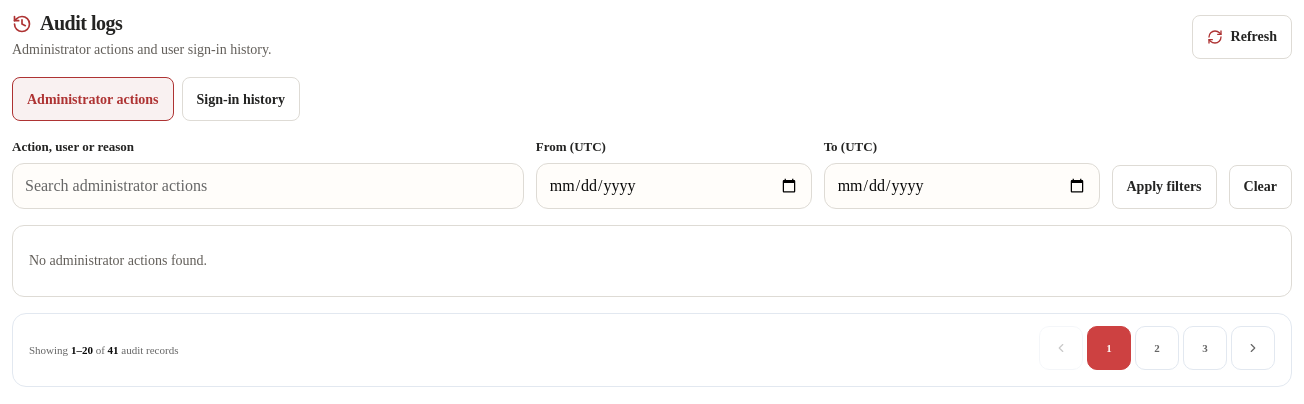
Test: admin sign-in history › ignores a stale security response after switching back to administrator actions
Expected: the text "No administrator actions found." is shown, [29,253,207,268]
Click the button "Sign-in history" at (241, 99), box [182,77,300,121]
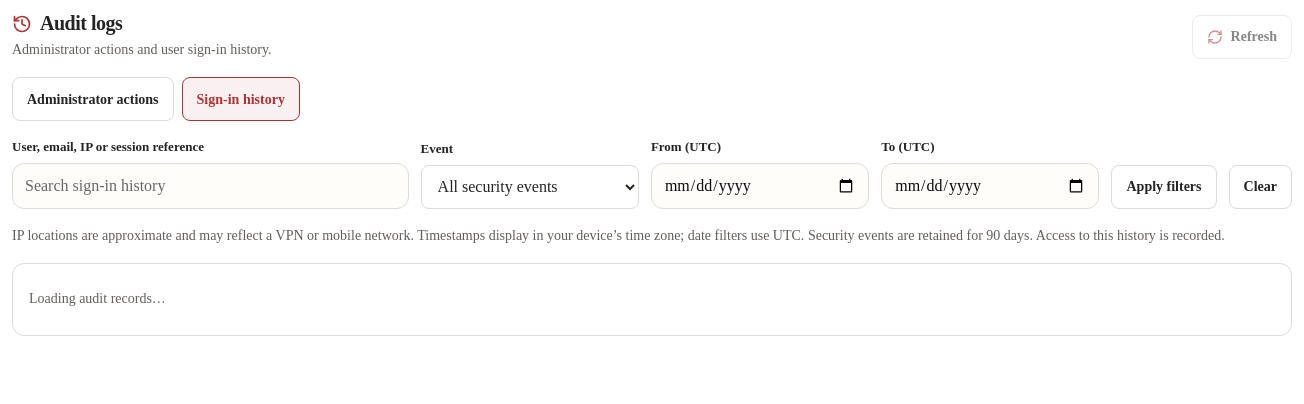
Click the button "Administrator actions" at (93, 99), box [12,77,174,121]
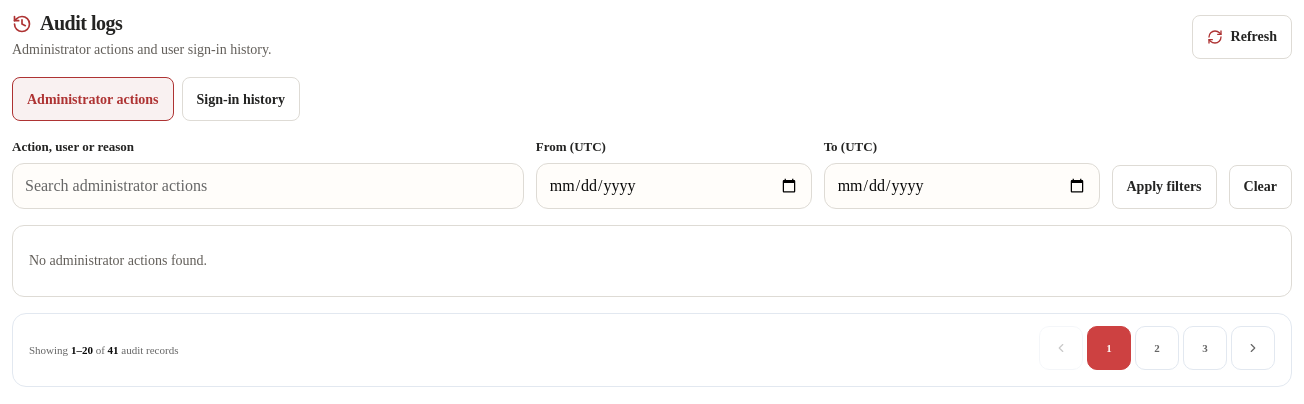
Expected: the text "No administrator actions found." is shown, [29,253,207,268]
